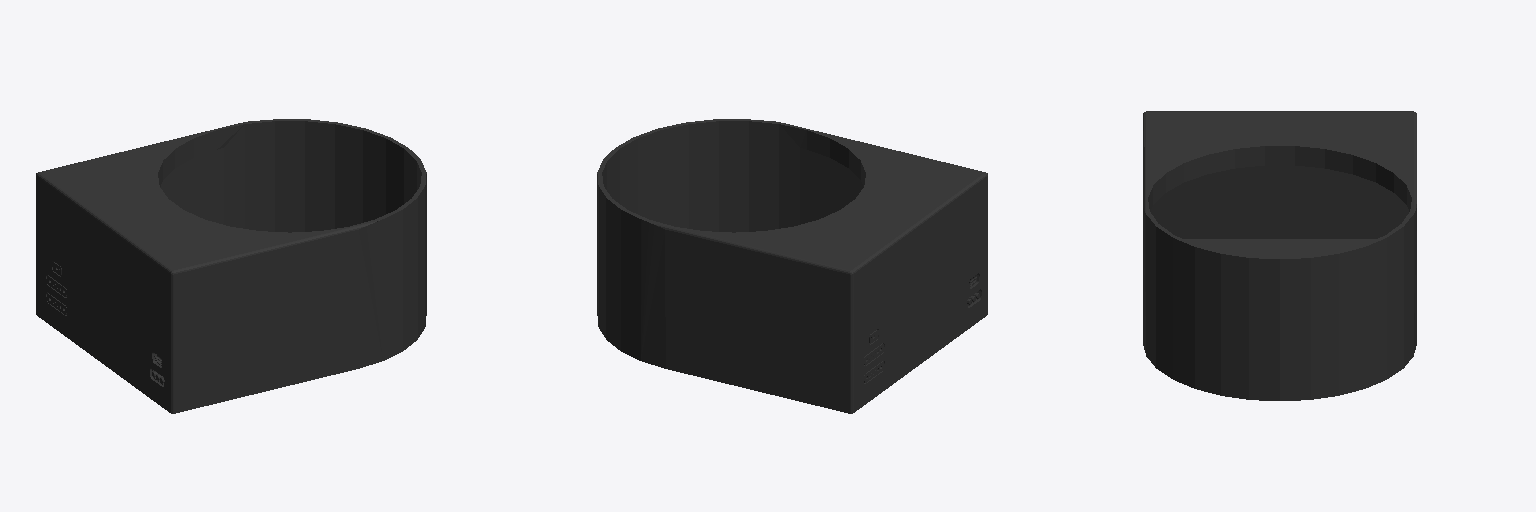
The model's file is wamBase.obj.
The picture shows the model from 3 angles: view 1: azimuth 30°, elevation 25°; view 2: azimuth 150°, elevation 25°; view 3: azimuth 270°, elevation 25°; orthographic projection.
Visible parts, largest first — view 1: stl_object; view 2: stl_object; view 3: stl_object.
Boxes of the visible parts, <box> form: stl_object: <box>36,119,426,413</box>; stl_object: <box>597,119,987,413</box>; stl_object: <box>1143,111,1416,400</box>.
Bounding box in the file's own units: 0.36 × 0.16 × 0.28.